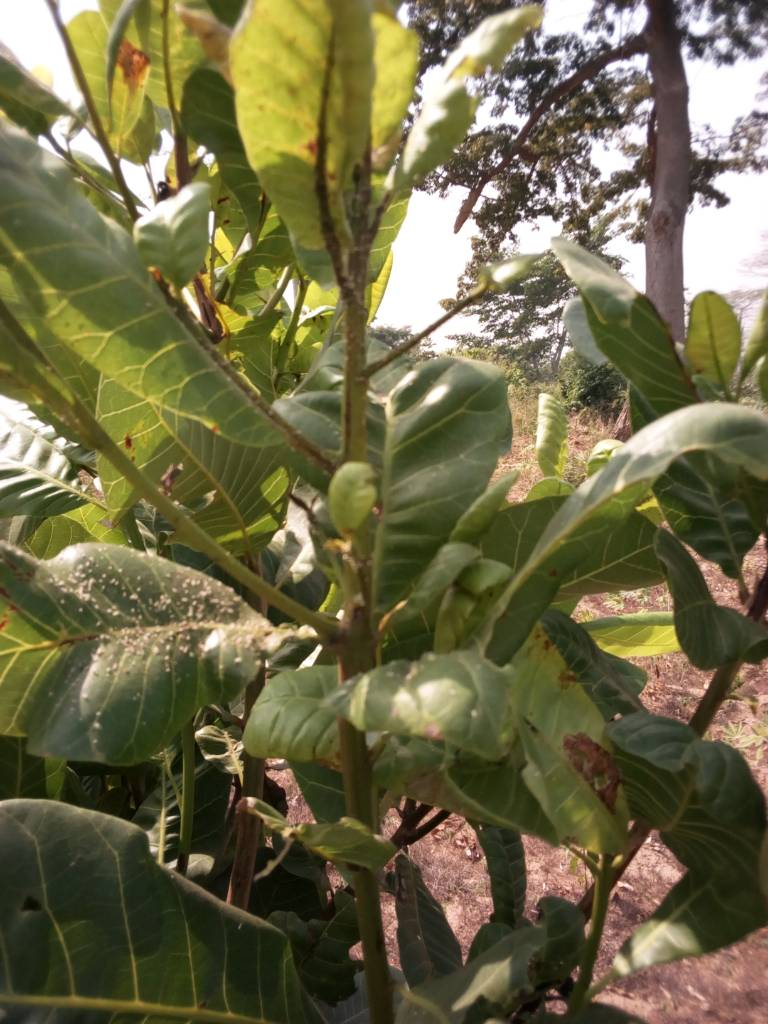Aphis gossypi: (2, 794, 294, 1024)
